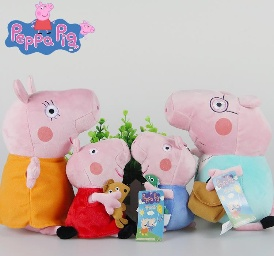Peppa: (65, 138, 131, 237)
